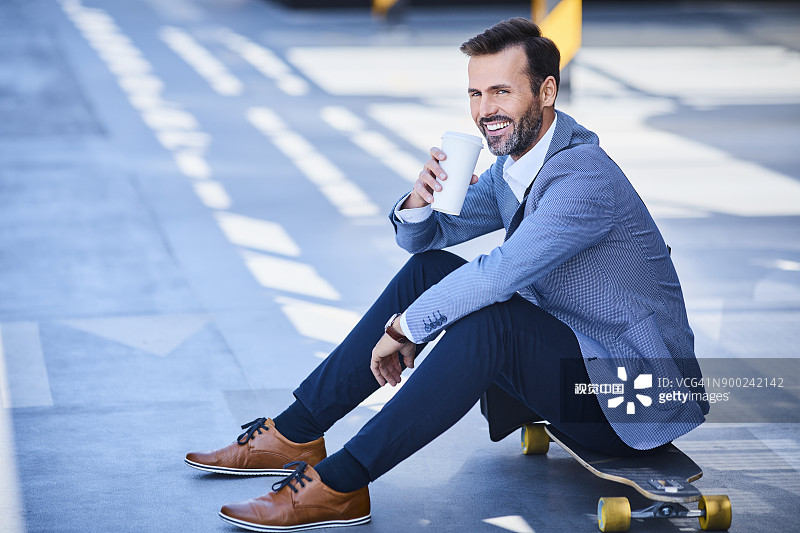no-phone: (399, 124, 484, 235), (362, 309, 434, 389)
